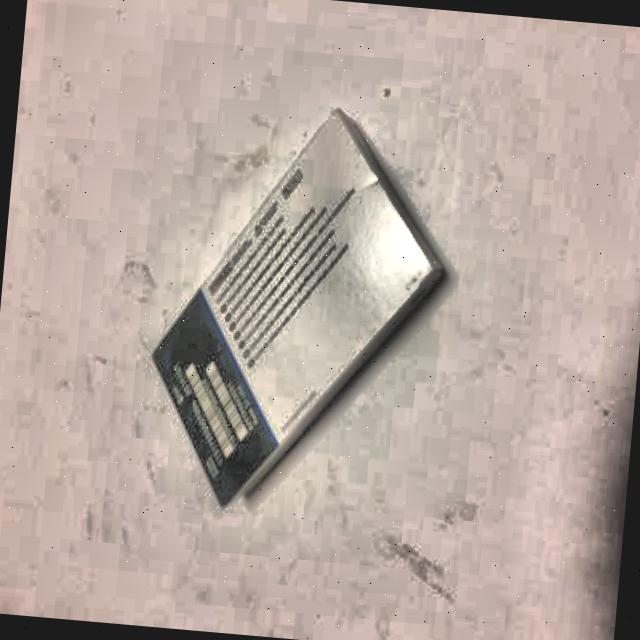paper: (137, 89, 459, 530)
